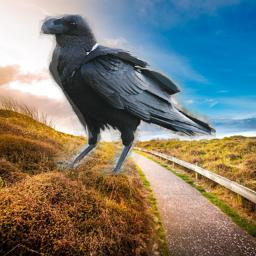Crow: (37, 14, 216, 175)
